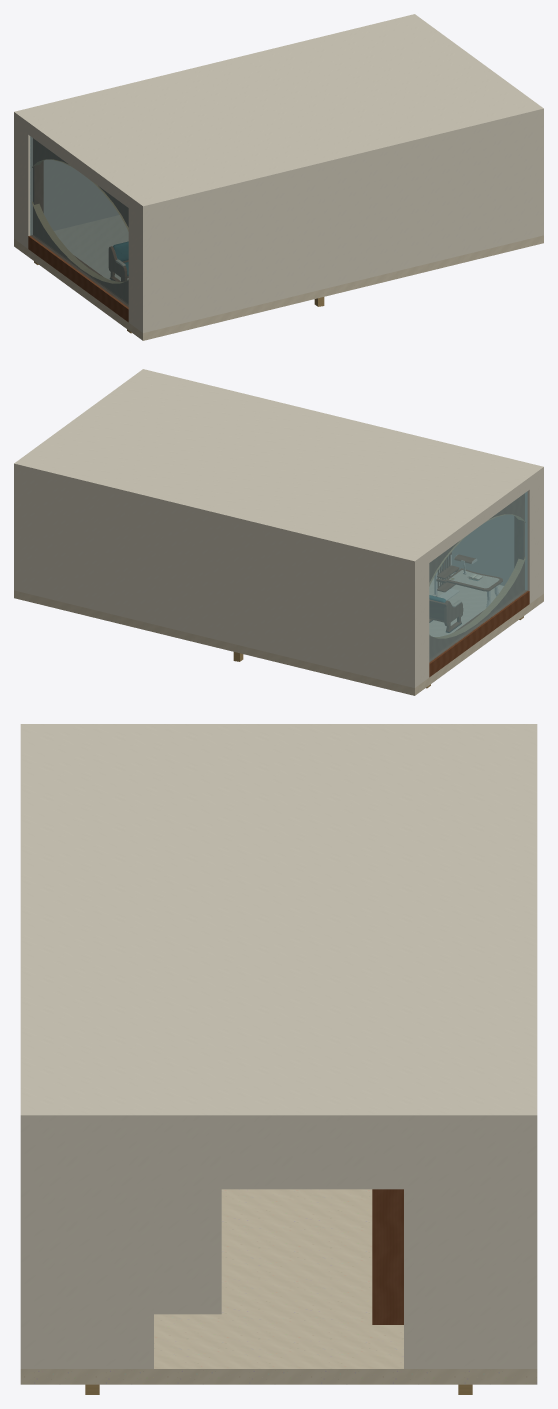
File: QuietGroveBank_439_r001.glb
3 renders of one model, top to bottom at view 1: azimuth 30°, elevation 25°; view 2: azimuth 150°, elevation 25°; view 3: azimuth 270°, elevation 25°, orthographic. The views are drawn at different scales.
Visible parts, largest first — view 1: QG439_Ceiling, QG439_SouthSide, QGB439_PrivateCourtGlass, QG439_RoomFloor, QG439_NorthSide, QGB439_CourtSouthPier, QGB439_CourtNorthPier, QGB439_CourtSill, QG439_OvalWindowReveal, QG439_OvalDepthReturn, QGB439_CourtHeader, QGB439_DeepReveal_-422.2; view 2: QG439_Ceiling, QG439_NorthSide, QGB439_PrivateCourtGlass, QG439_RoomFloor, QG439_SouthSide, QGB439_CourtNorthPier, QGB439_CourtSouthPier, QGB439_CourtSill, QG439_OvalWindowReveal, QG439_OvalDepthReturn, QGB439_CourtHeader, QGB439_DeepReveal_-416.59999999999997 (+1 smaller); view 3: QG439_Ceiling, QG439_RoomFloor, QG439_EntryShoulderNorth, QG439_EntryShoulderSouth, QG439_EntryHeader, QG439_WashEntrySide, QG439_EntryPrivacyDogleg, QG439_NorthSide, QG439_SouthSide.
Boxes of the visible parts, box(x1,y1,x2,y2) form: QG439_Ceiling: box(14, 14, 543, 211); QG439_SouthSide: box(141, 114, 543, 332); QGB439_PrivateCourtGlass: box(30, 136, 128, 307); QG439_RoomFloor: box(14, 215, 543, 340); QG439_NorthSide: box(14, 117, 118, 239); QGB439_CourtSouthPier: box(128, 201, 150, 332); QGB439_CourtNorthPier: box(14, 118, 32, 248); QGB439_CourtSill: box(28, 235, 128, 322); QG439_OvalWindowReveal: box(34, 139, 128, 303); QG439_OvalDepthReturn: box(32, 159, 128, 283); QGB439_CourtHeader: box(28, 128, 128, 207); QGB439_DeepReveal_-422.2: box(33, 138, 43, 234); QG439_Ceiling: box(14, 369, 543, 566); QG439_NorthSide: box(14, 469, 416, 687); QGB439_PrivateCourtGlass: box(429, 491, 527, 662); QG439_RoomFloor: box(14, 570, 543, 695); QG439_SouthSide: box(439, 472, 543, 594); QGB439_CourtNorthPier: box(407, 556, 429, 687); QGB439_CourtSouthPier: box(525, 474, 541, 603); QGB439_CourtSill: box(429, 590, 529, 677); QG439_OvalWindowReveal: box(429, 494, 523, 658); QG439_OvalDepthReturn: box(429, 514, 525, 638); QGB439_CourtHeader: box(429, 483, 529, 562); QGB439_DeepReveal_-416.59999999999997: box(514, 493, 524, 589); QG439_Ceiling: box(20, 724, 537, 1125); QG439_RoomFloor: box(20, 1189, 537, 1384); QG439_EntryShoulderNorth: box(404, 1125, 528, 1368); QG439_EntryShoulderSouth: box(29, 1125, 153, 1368); QG439_EntryHeader: box(150, 1125, 408, 1189); QG439_WashEntrySide: box(154, 1189, 221, 1314); QG439_EntryPrivacyDogleg: box(372, 1189, 403, 1324); QG439_NorthSide: box(528, 1125, 537, 1368); QG439_SouthSide: box(20, 1125, 29, 1368).
Size of the model in its own units: 12.9 by 4.91 by 7.2.
Materials: 58 (43 with a texture image).
